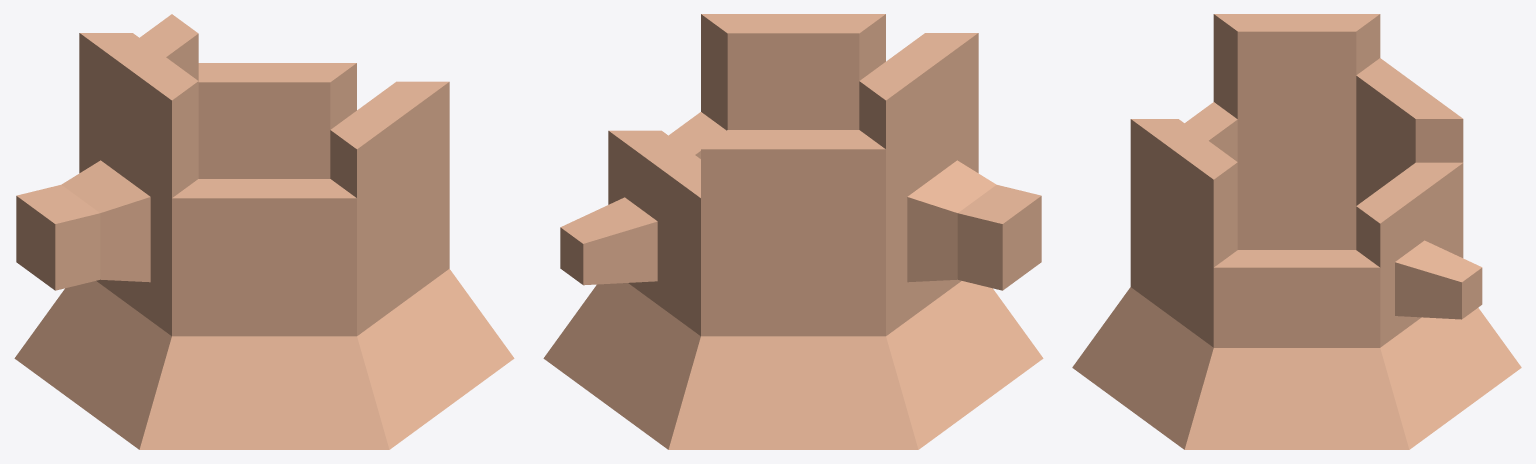
File: stump_old.gltf
3 renders of one model, left to right at view 1: azimuth 30°, elevation 25°; view 2: azimuth 150°, elevation 25°; view 3: azimuth 270°, elevation 25°, orthographic. The views are drawn at different scales.
Visible parts, largest first — view 1: stump_old; view 2: stump_old; view 3: stump_old.
Boxes of the visible parts, bbox=[...] form: stump_old: bbox=[14, 14, 514, 449]; stump_old: bbox=[543, 14, 1043, 449]; stump_old: bbox=[1072, 14, 1521, 449].
Bounding box in the file's own units: 0.3565 × 0.2665 × 0.371.
